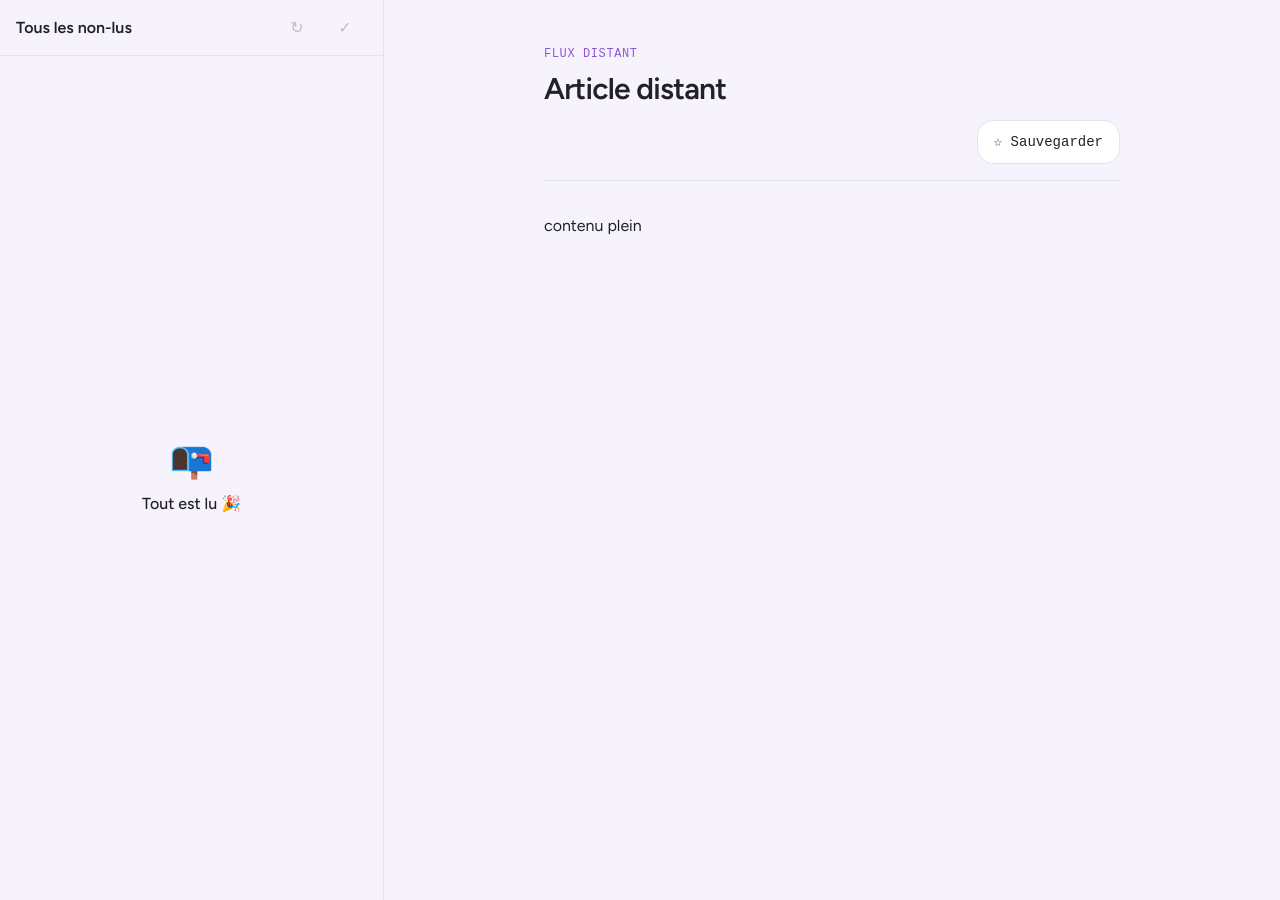
Test: <ArticleListView view /> › deep-link : sauvegarder met à jour l'étoile du lecteur (cache détail patché)
expect the text "contenu plein" is shown: met, box [544,216,642,234]
Click the button "☆ Sauvegarder": (1048, 142) [977,120,1120,164]
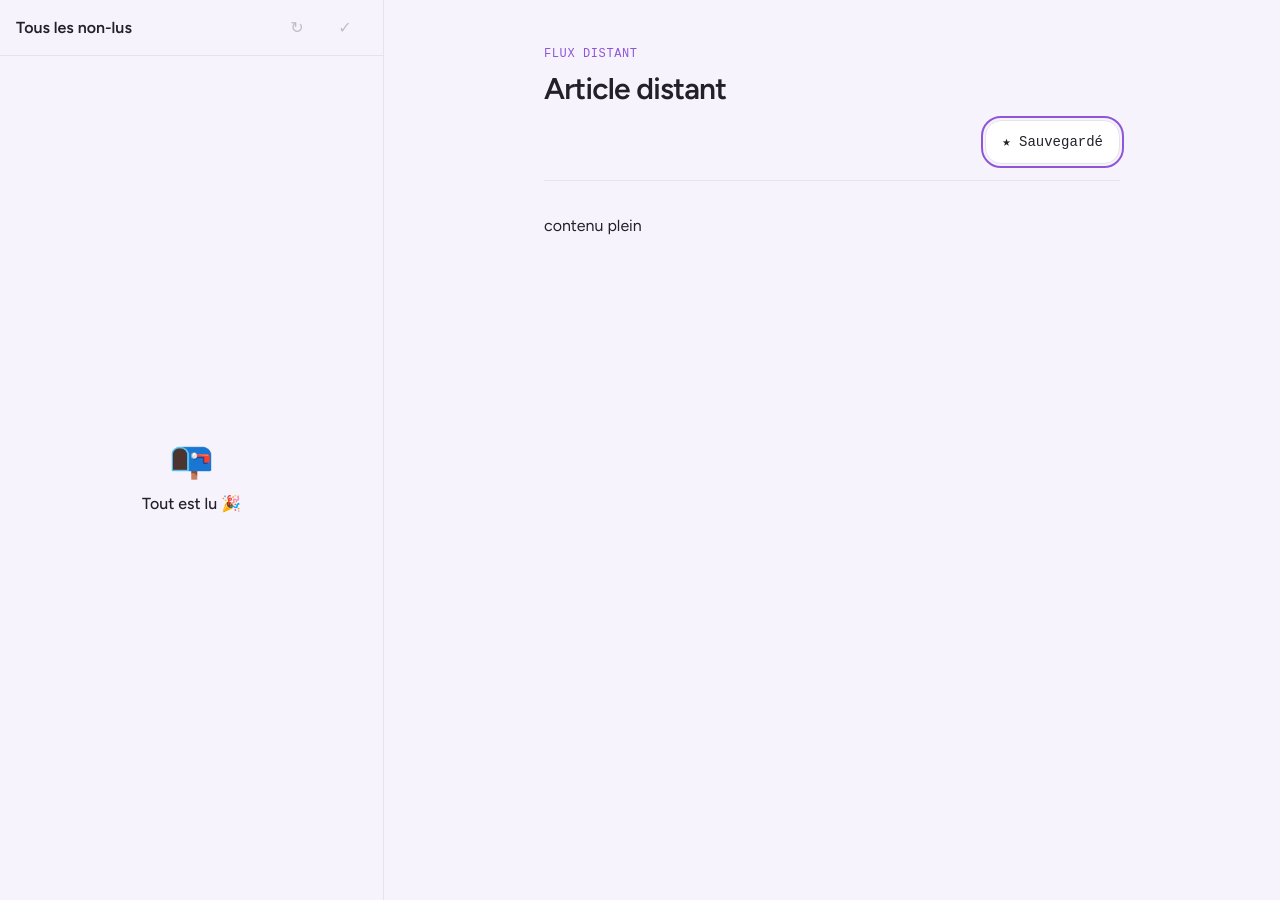
expect the button "★ Sauvegardé" is shown: met, box [985,120,1120,164]
